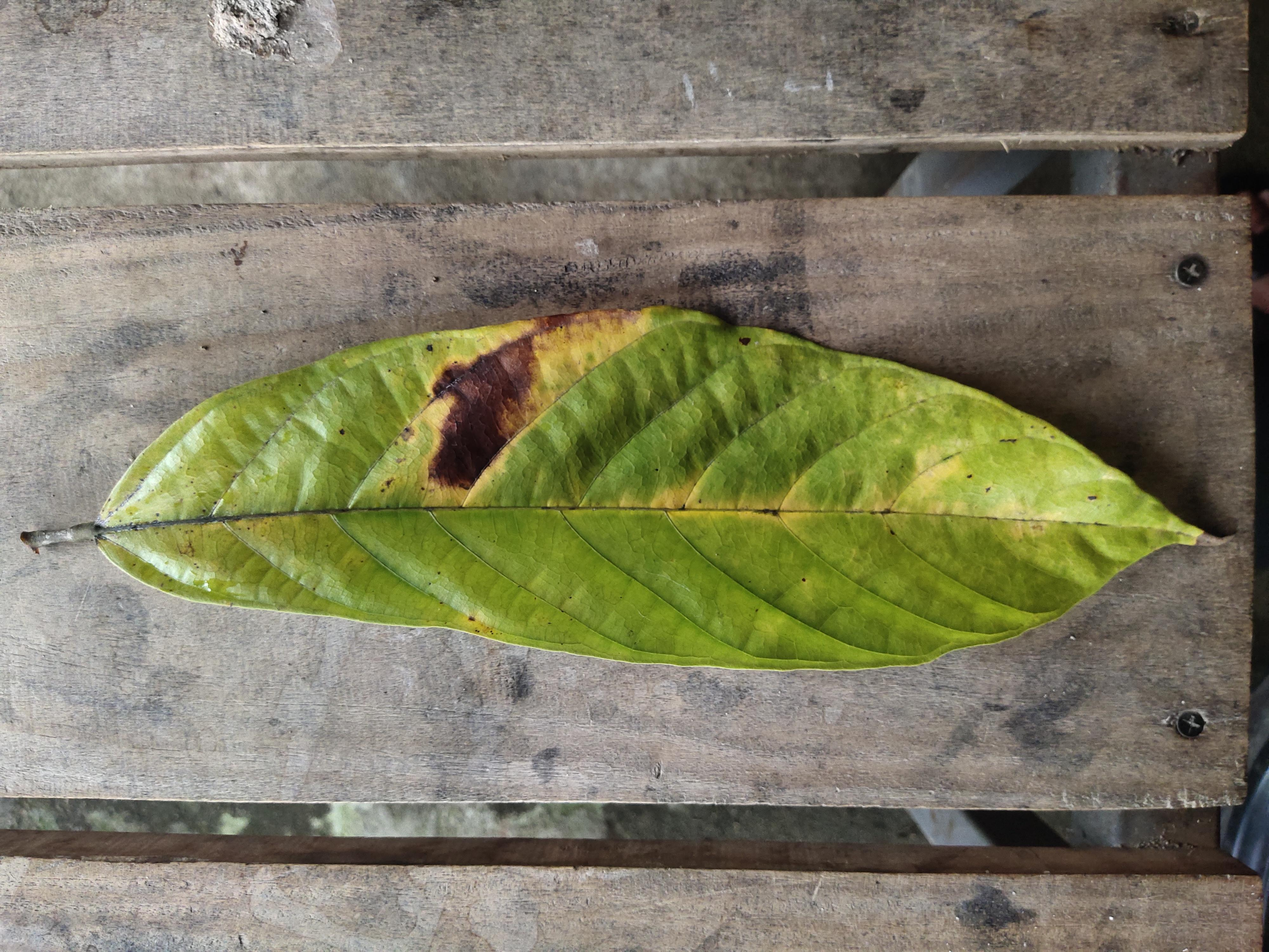deficiencia_potasio: (97, 287, 1239, 691)
